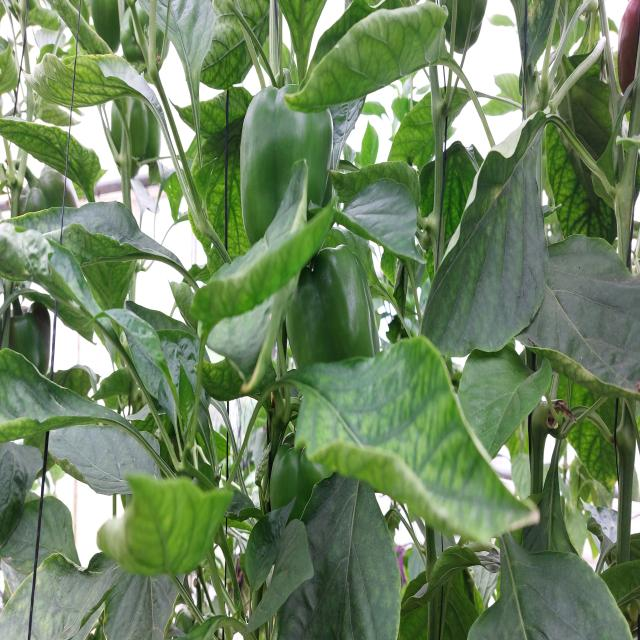Green--Not-ready-to-harvest: (246, 83, 327, 260), (287, 242, 372, 397)
